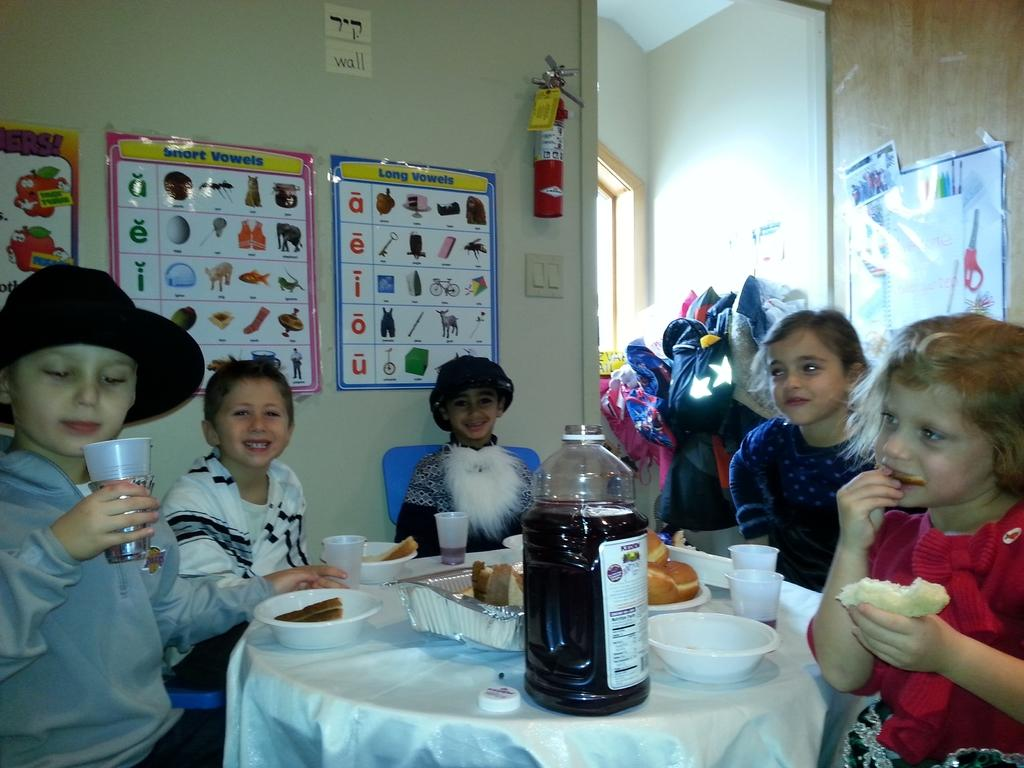Hat: (0, 264, 207, 426), (428, 354, 510, 431)
